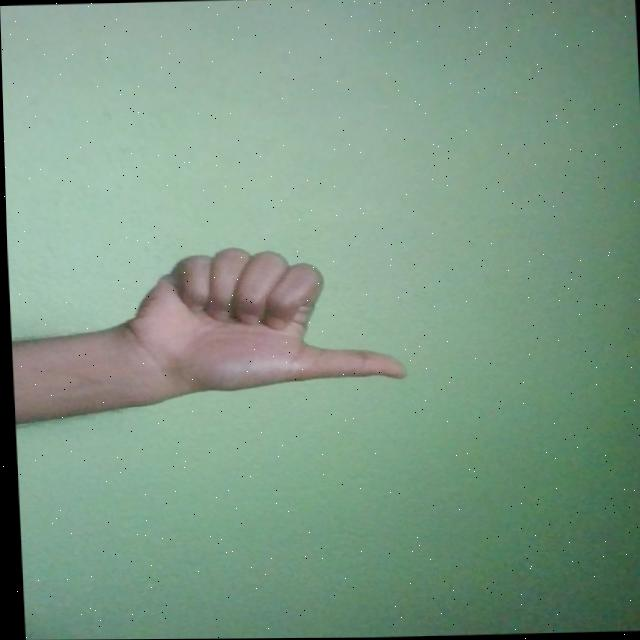Good Job: (115, 242, 406, 394)
